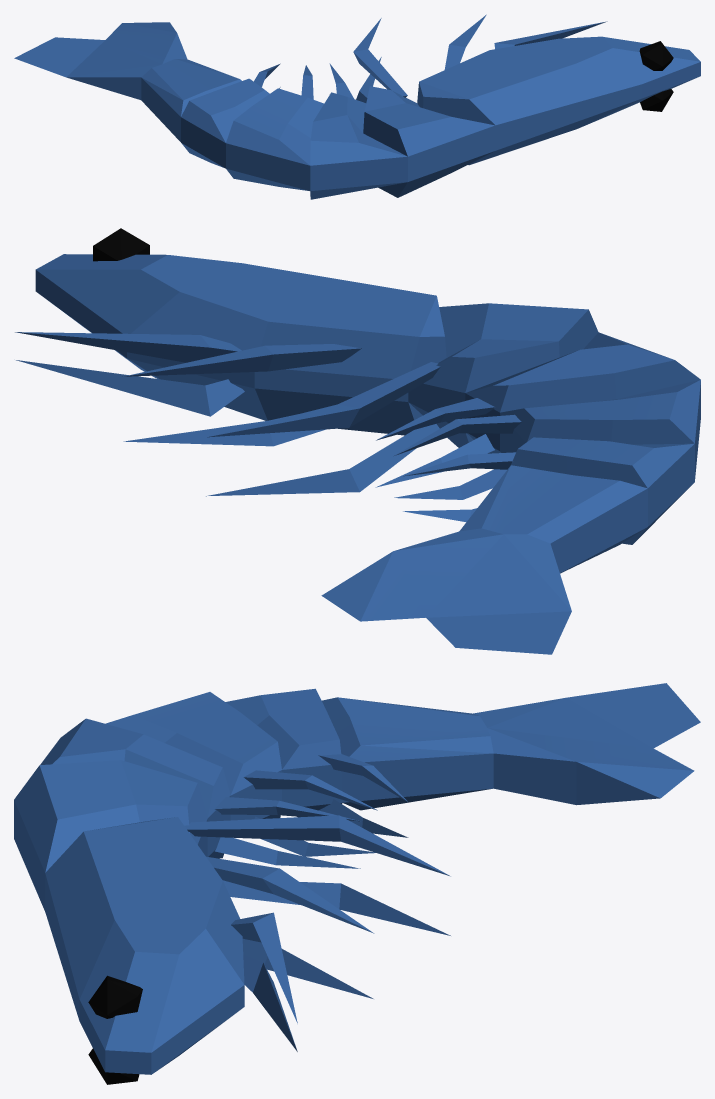
File: ShrimpDrip.glb
The picture shows the model from 3 angles, top to bottom: view 1: azimuth 30°, elevation 25°; view 2: azimuth 150°, elevation 25°; view 3: azimuth 270°, elevation 25°; orthographic projection. The views are drawn at different scales.
Parts seen in each view (by area): view 1: ShrimpDrip; view 2: ShrimpDrip; view 3: ShrimpDrip.
Boxes of the visible parts, x1,y1,x2,y2 form: ShrimpDrip: (14,14,700,199); ShrimpDrip: (15,228,700,654); ShrimpDrip: (14,683,700,1084).
Size of the model in its own units: 0.0953 by 0.0123 by 0.0727.
1 material, 1 textured.
